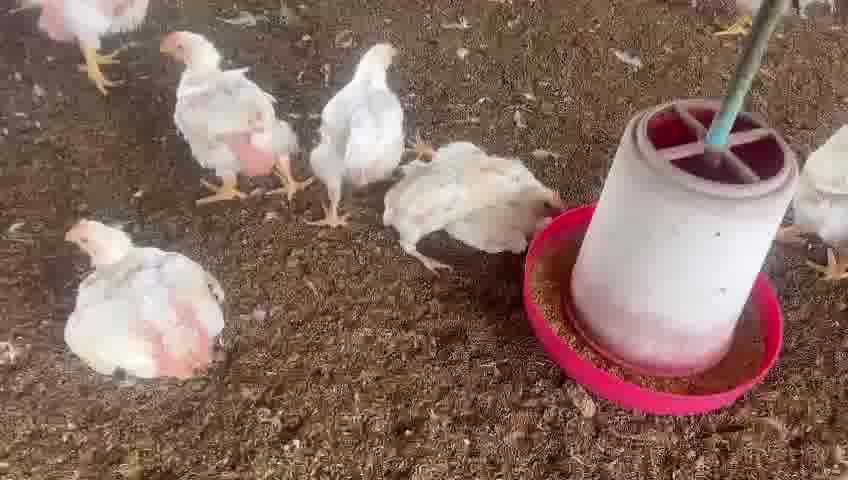AbNormal: (65, 215, 224, 379), (392, 139, 553, 258)
Normal: (157, 31, 306, 202), (313, 42, 400, 231), (30, 3, 143, 92)
